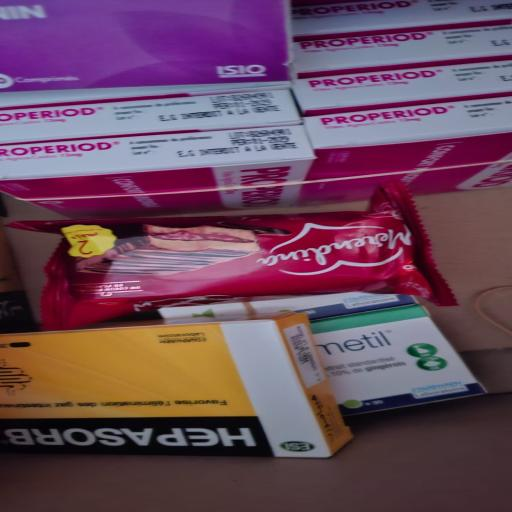merendina: (0, 192, 511, 346)
